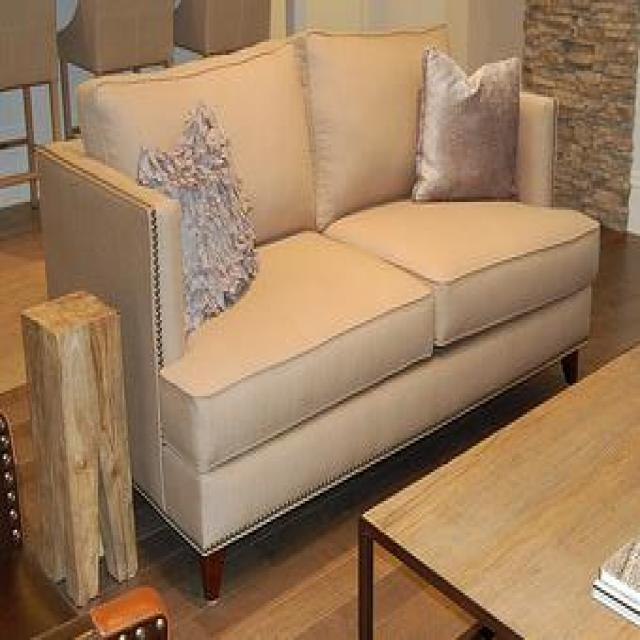sofa: (33, 22, 604, 608)
